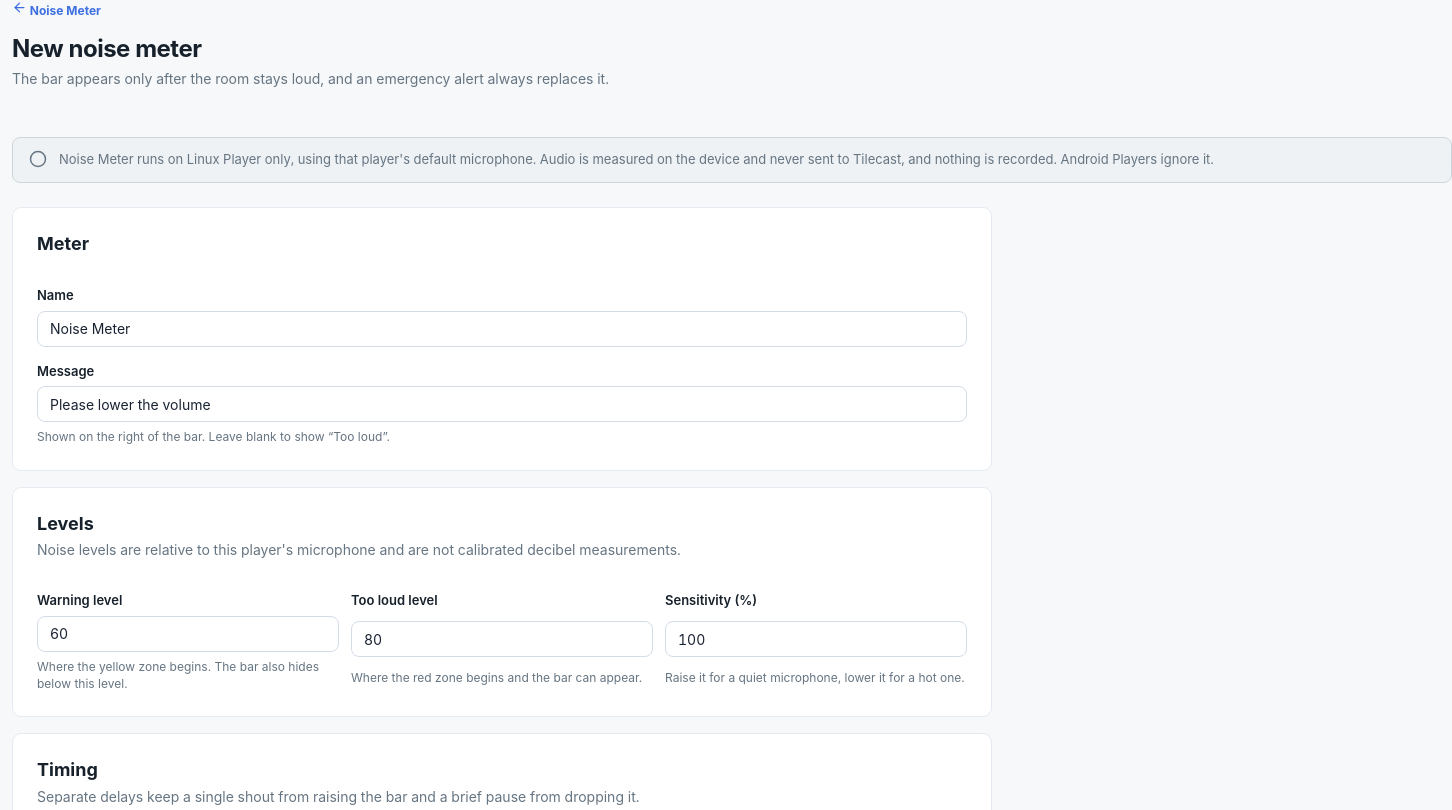
Noise Meter › refuses a warning level at or above the too loud level
expect the field labelled "Name" is enabled: met, box [37,311,967,347]
Replace the text in the number field labelled "Warning level" with "85" at [188, 634], box [37,616,339,652]
(page scrolled)
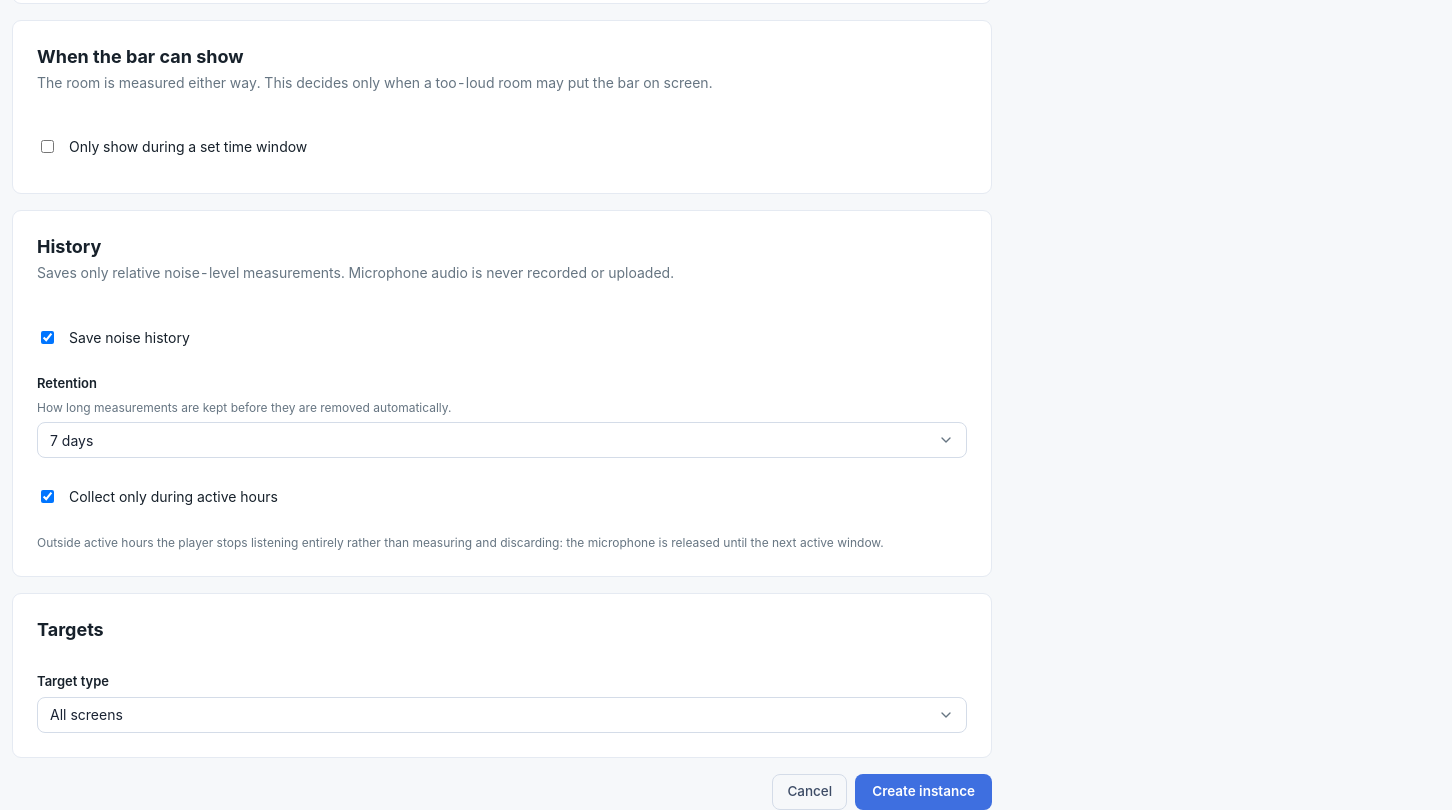
Click the button "Create instance".
click(924, 792)  # box [855,774,992,809]
(page scrolled)
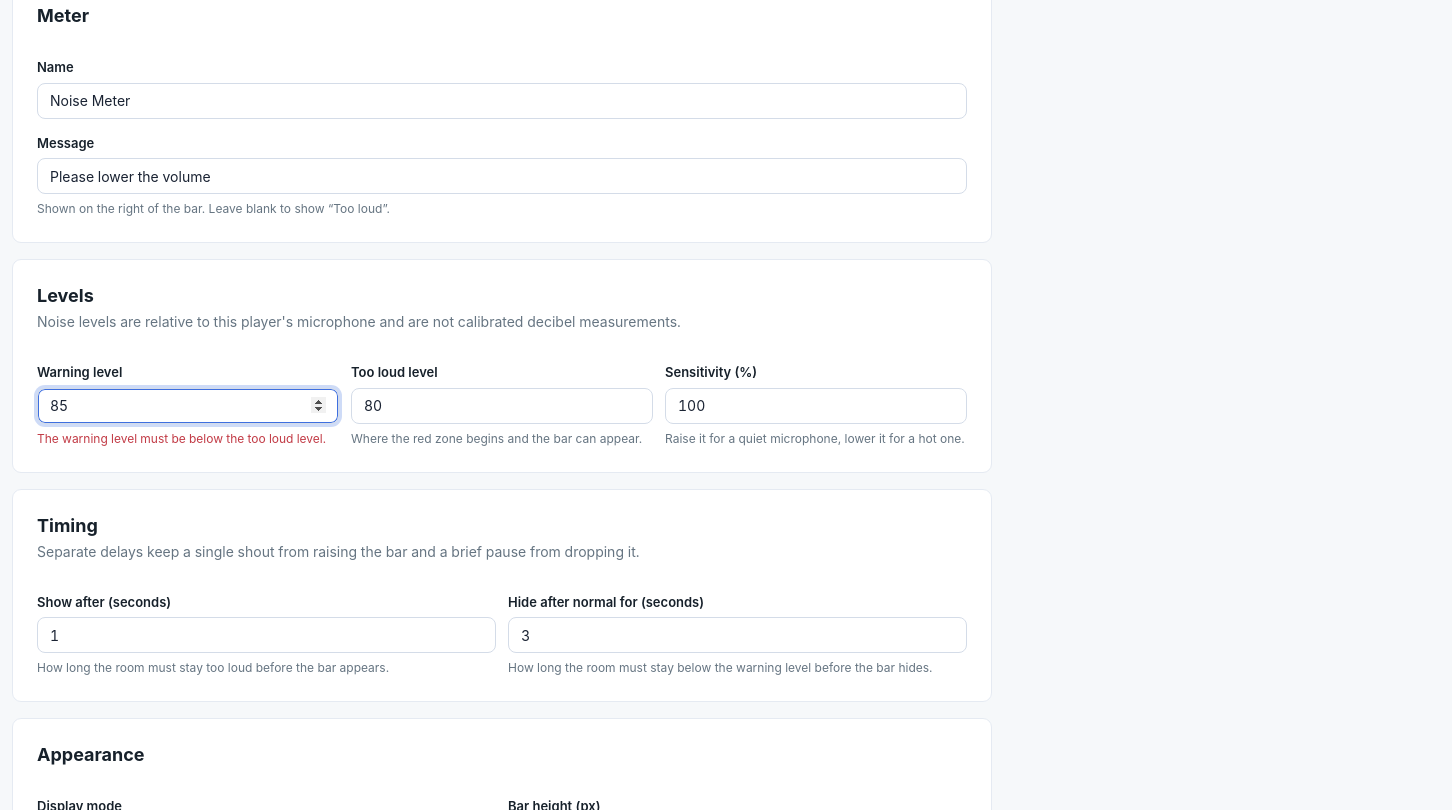
expect the text "The warning level must be below the too loud level." is shown: met, box [37,430,339,448]
